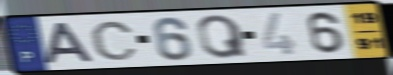4: (260, 11, 298, 58)
6: (151, 15, 194, 62), (305, 10, 347, 56)
A: (43, 21, 97, 65)
C: (89, 20, 140, 62)
Q: (195, 13, 250, 60)
